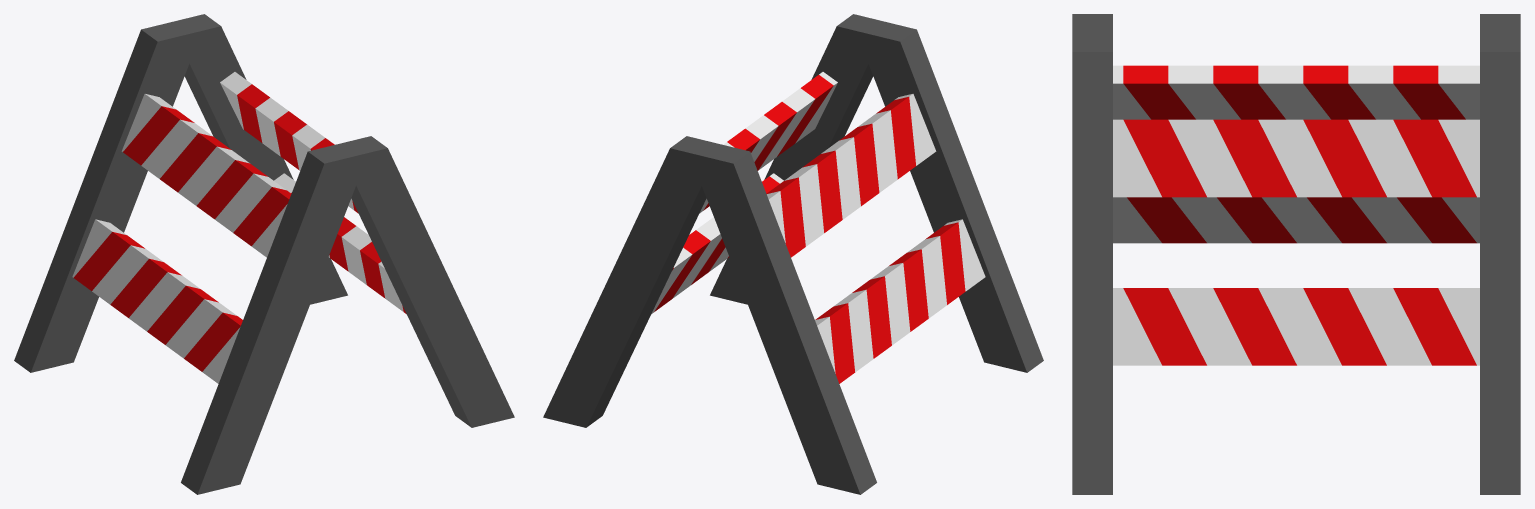
File: StopSign.fbx
3 views of the same model, side by side, from view 1: azimuth 30°, elevation 25°; view 2: azimuth 150°, elevation 25°; view 3: azimuth 270°, elevation 25° (orthographic). The views are drawn at different scales.
Parts seen in each view (by area): view 1: Cube; view 2: Cube; view 3: Cube.
Boxes of the visible parts, left/top/right/bottom form: Cube: left=14, top=14, right=514, bottom=494; Cube: left=543, top=14, right=1043, bottom=494; Cube: left=1072, top=14, right=1520, bottom=494.
Bounding box in the file's own units: 220 × 199 × 220.
